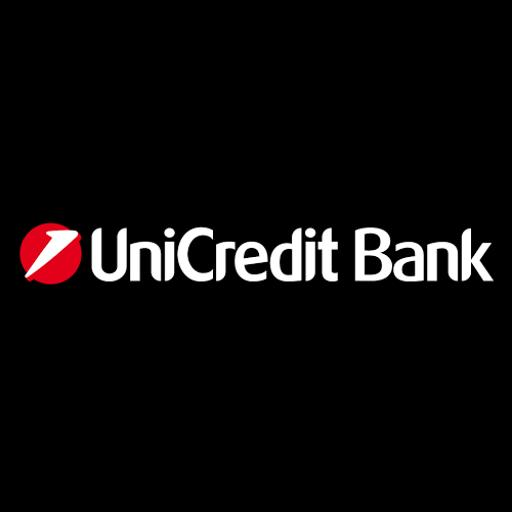UniCredit Bank Aktiengesellschaft: (0, 204, 511, 307)
